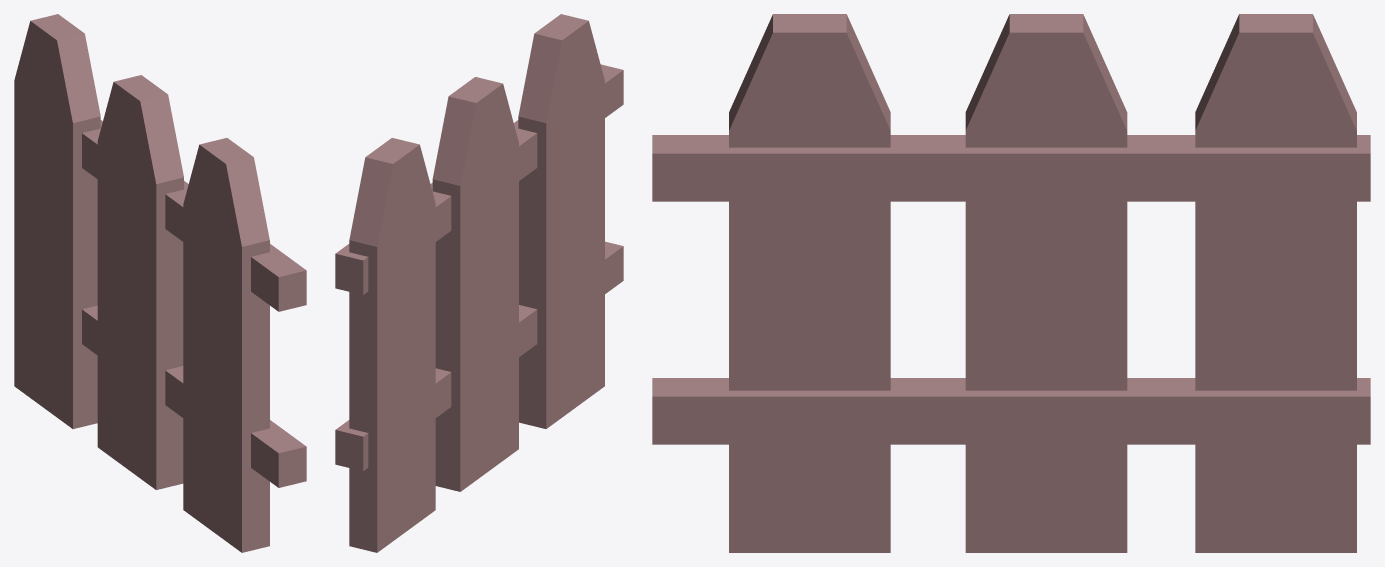
Rendered from valla.fbx.
3 renders of one model, left to right at view 1: azimuth 30°, elevation 25°; view 2: azimuth 150°, elevation 25°; view 3: azimuth 270°, elevation 25°, orthographic. The views are drawn at different scales.
Visible parts, largest first — view 1: Cube.005; view 2: Cube.005; view 3: Cube.005.
Boxes of the visible parts, x1,y1,x2,y2 form: Cube.005: (14,14,306,552); Cube.005: (335,14,623,552); Cube.005: (652,14,1370,552).
Size of the model in its own units: 10.4 by 127 by 102.
